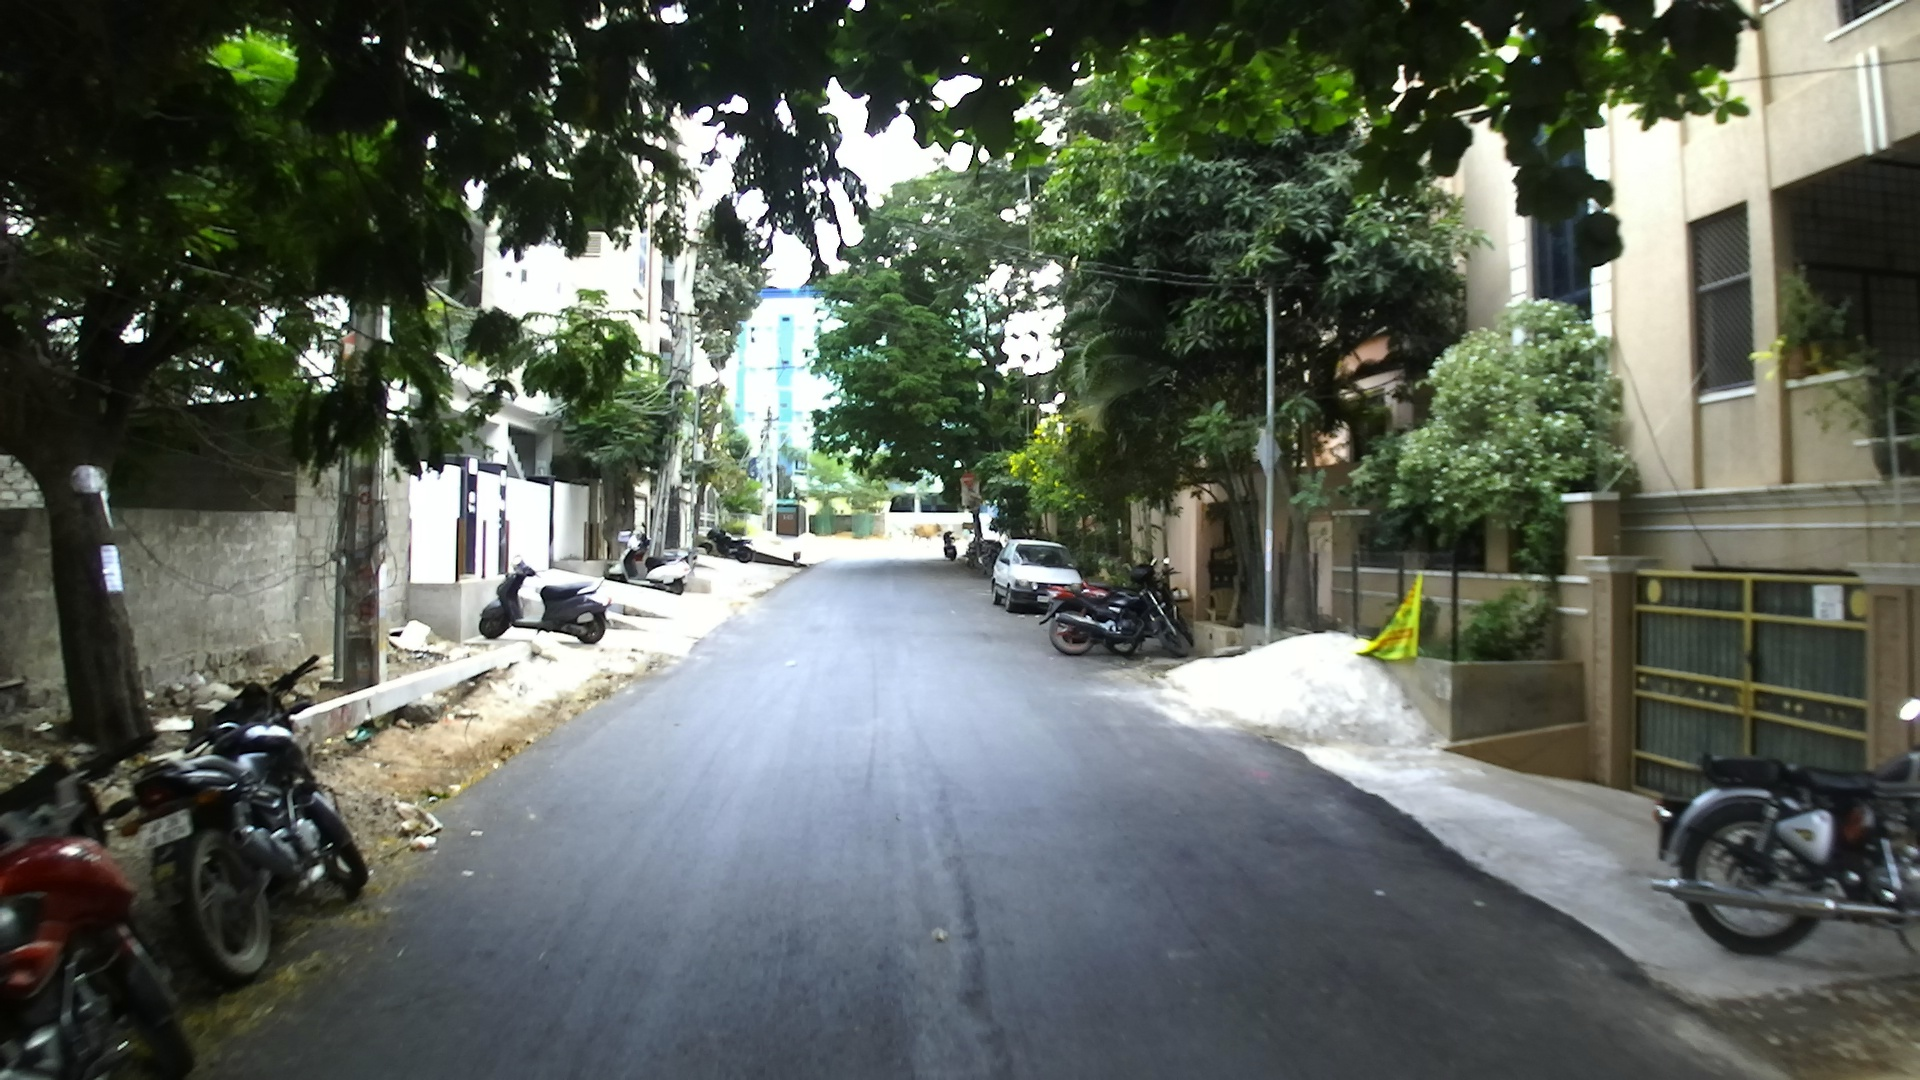vehicle: (133, 655, 372, 940), (0, 738, 196, 1073), (1654, 745, 1919, 959), (96, 735, 280, 986), (190, 657, 371, 909), (1044, 582, 1192, 661), (477, 570, 607, 645), (989, 541, 1083, 616), (611, 533, 695, 591)
